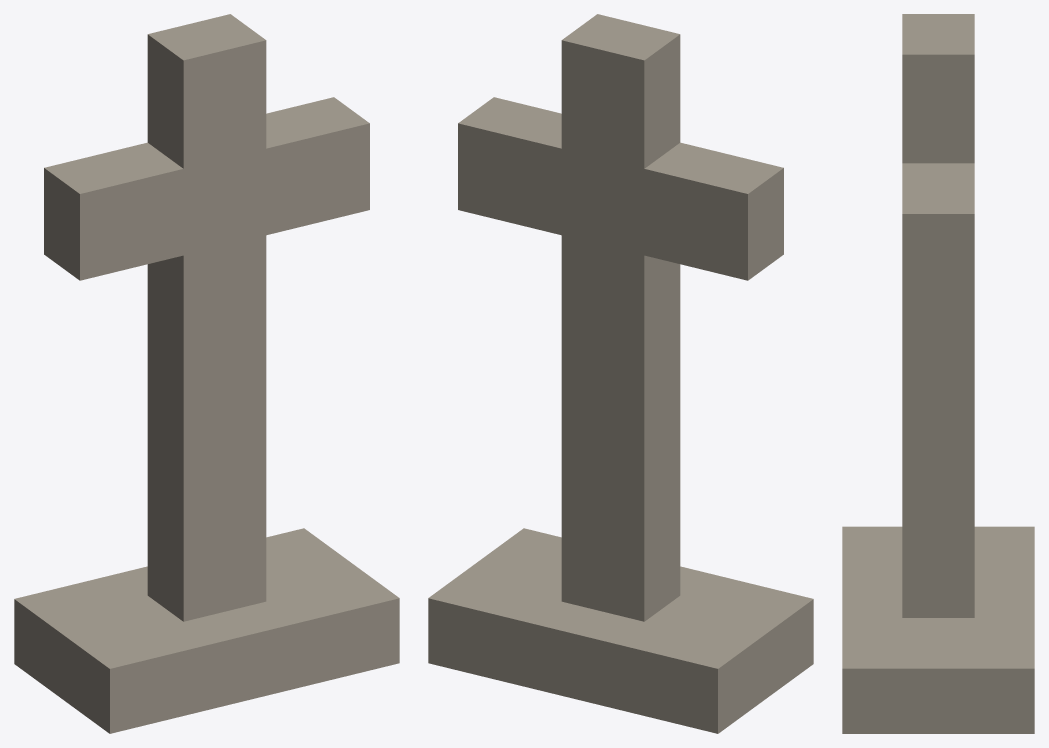
The model's file is stone_cross.glb.
3 renders of one model, left to right at view 1: azimuth 30°, elevation 25°; view 2: azimuth 150°, elevation 25°; view 3: azimuth 270°, elevation 25°, orthographic.
Parts seen in each view (by area): view 1: stone_cross; view 2: stone_cross; view 3: stone_cross.
Boxes of the visible parts, x1,y1,x2,y2 form: stone_cross: (14, 14, 399, 733); stone_cross: (428, 14, 813, 733); stone_cross: (842, 14, 1034, 733).
Bounding box in the file's own units: 0.7 × 1.45 × 0.4.
